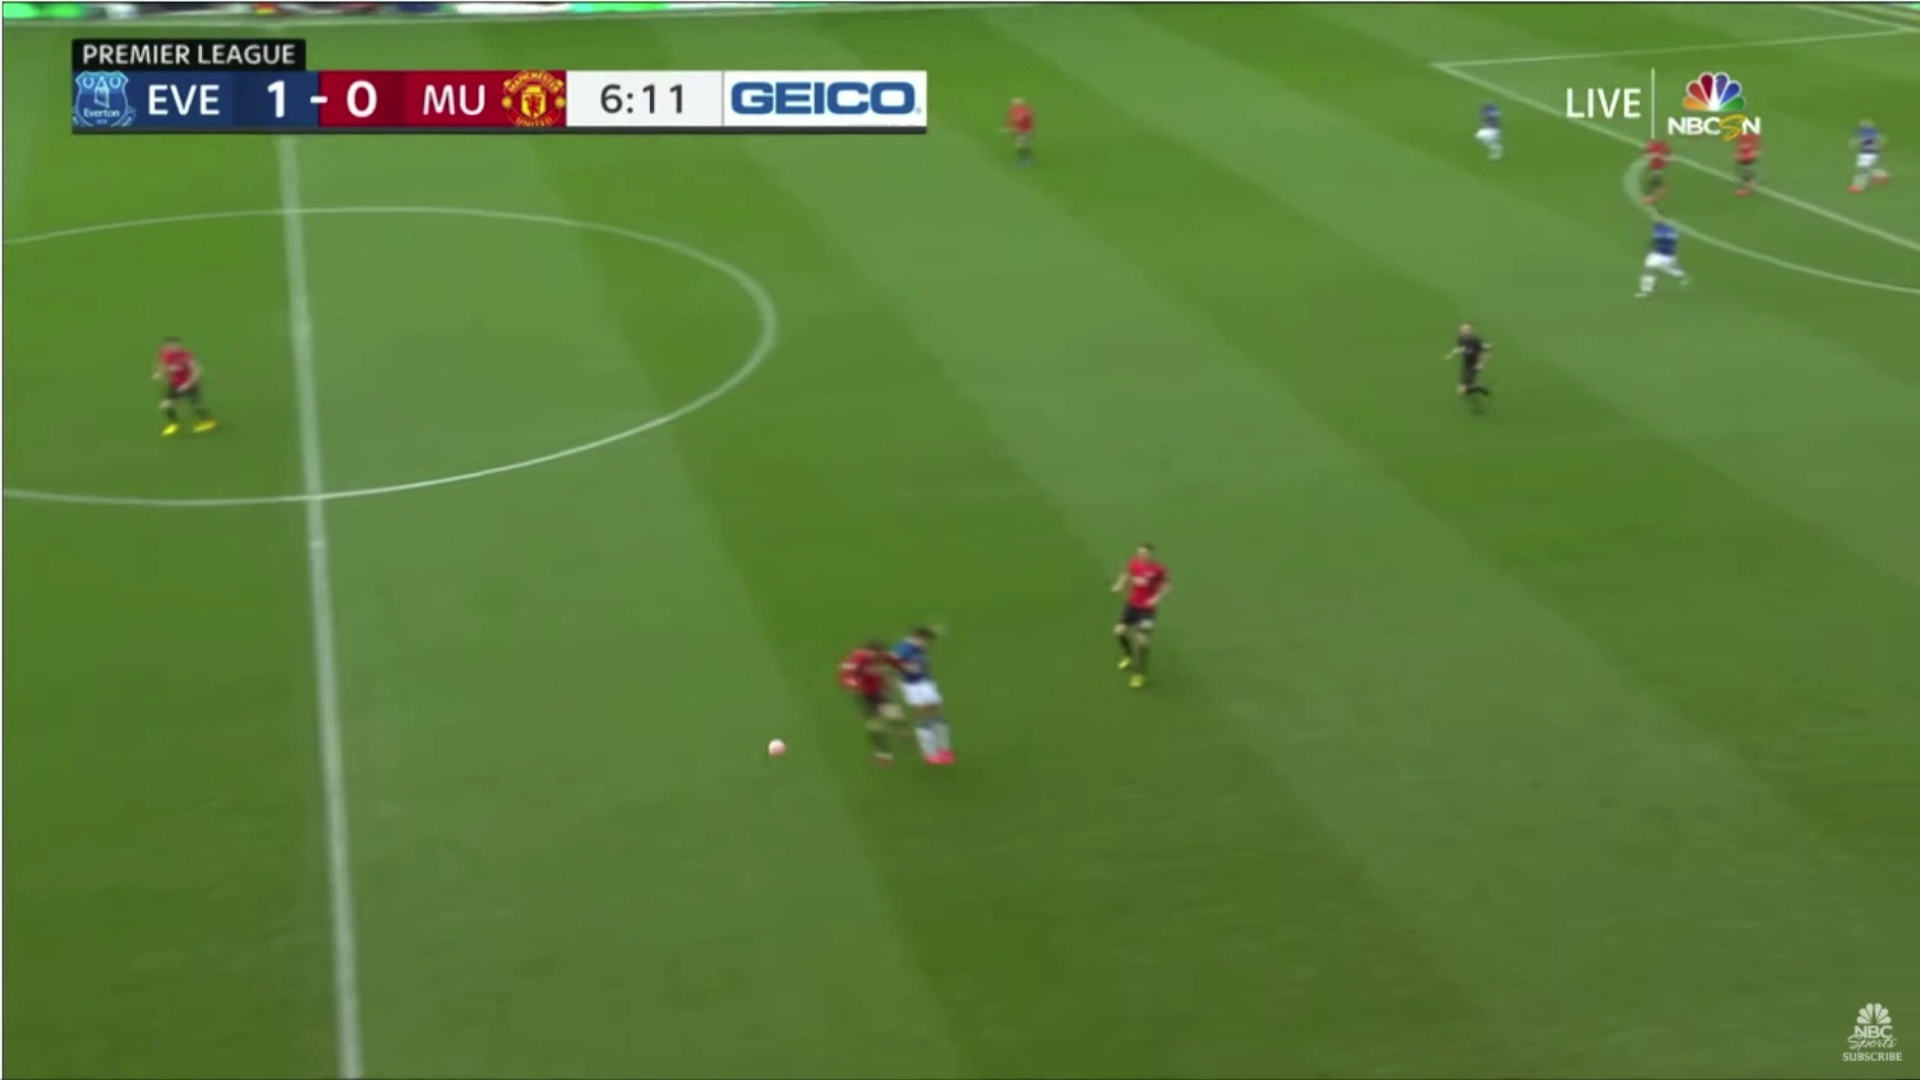ball: (756, 729, 797, 771)
player: (1112, 523, 1191, 694), (820, 617, 897, 783), (895, 606, 966, 783), (137, 323, 227, 450), (1718, 98, 1783, 217), (987, 71, 1056, 177), (1629, 204, 1695, 313), (1847, 90, 1897, 215), (1456, 87, 1514, 171), (1627, 125, 1685, 206)
